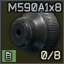M590A1 12ga 8-shell magazine cap: (0, 0, 64, 64)
